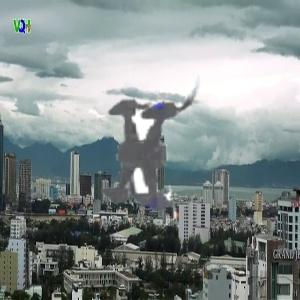drone: (1, 22, 279, 300)
